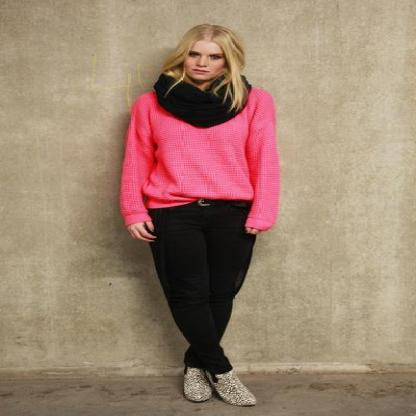jacket: (121, 88, 278, 230)
pants: (145, 197, 254, 384)
shoe: (184, 367, 240, 392)
